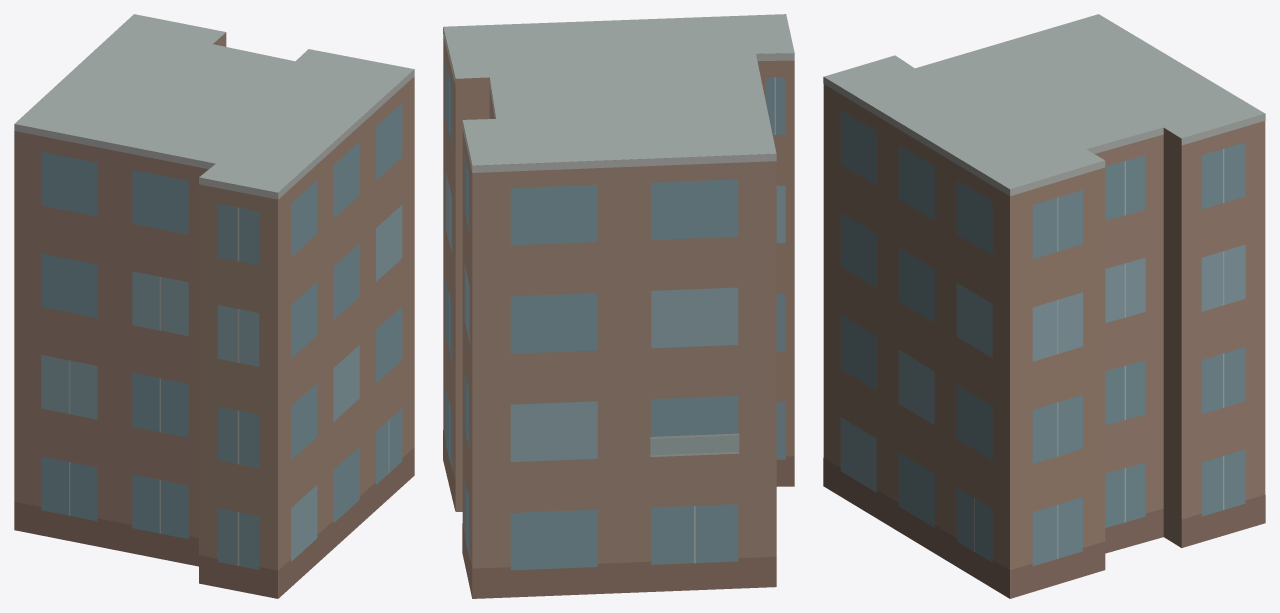
Rendered from survey-upis-32603452.glb.
3 views of the same model, side by side, from view 1: azimuth 30°, elevation 25°; view 2: azimuth 150°, elevation 25°; view 3: azimuth 270°, elevation 25° (orthographic). The views are drawn at different scales.
Parts seen in each view (by area): view 1: survey-upis-32603452.tmp; view 2: survey-upis-32603452.tmp; view 3: survey-upis-32603452.tmp.
Part boxes in pixels (<box>): survey-upis-32603452.tmp: <box>14,14,414,598</box>; survey-upis-32603452.tmp: <box>443,14,794,598</box>; survey-upis-32603452.tmp: <box>823,14,1265,598</box>.
Size of the model in its own units: 13.14 by 14.3 by 13.99.
